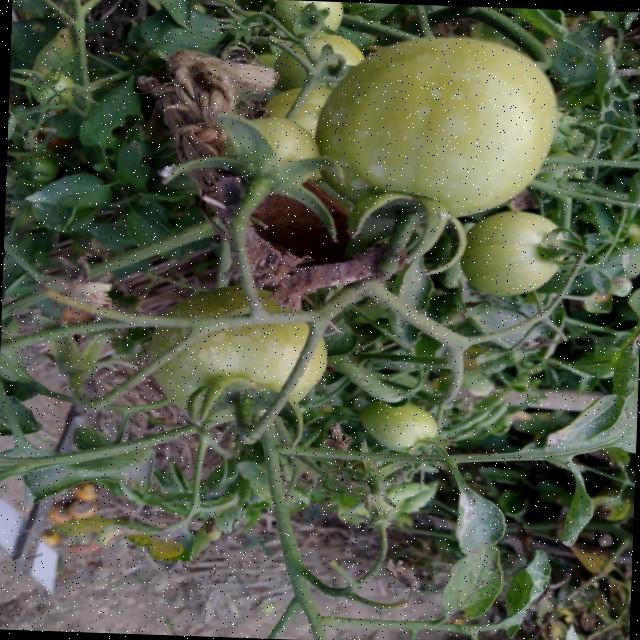Unripe: (315, 33, 561, 221), (145, 279, 330, 426), (460, 206, 565, 300)
